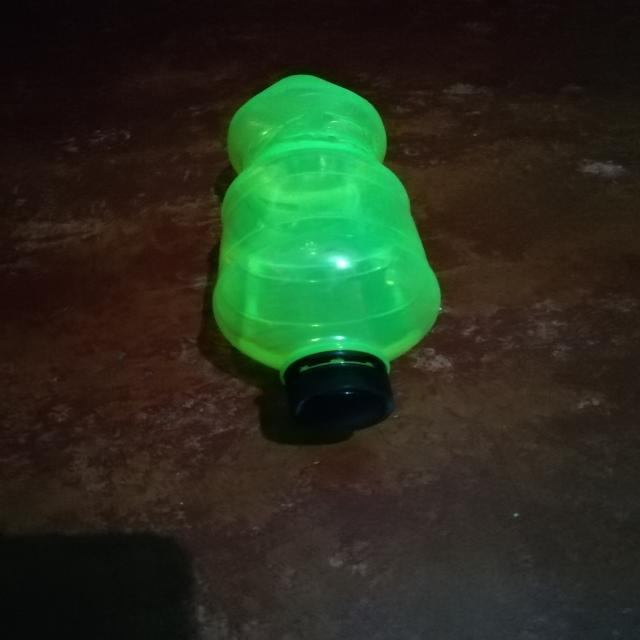plastic_bottle: (212, 75, 439, 431)
